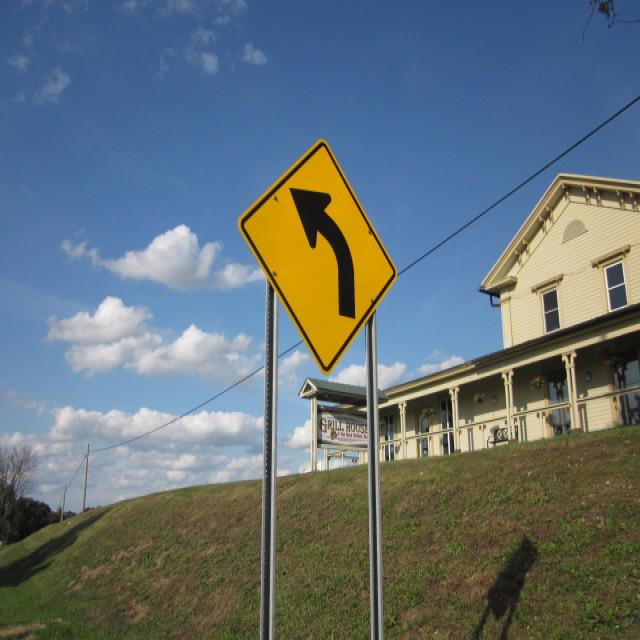warning: (234, 138, 406, 374)
